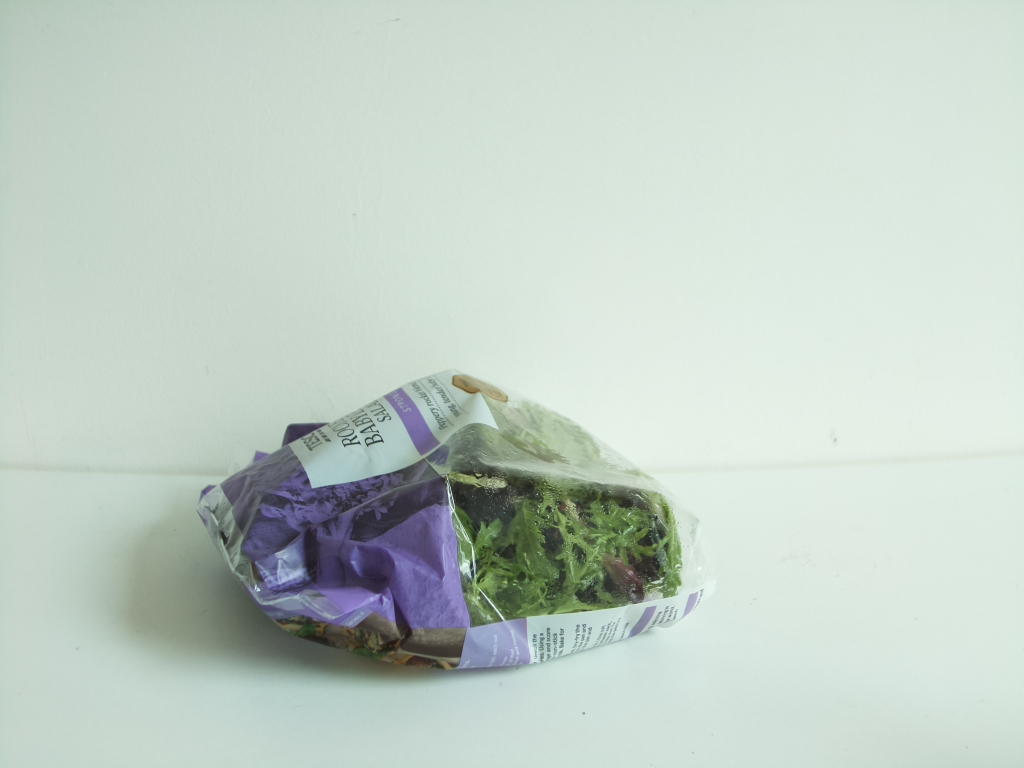salad: (196, 366, 708, 670)
